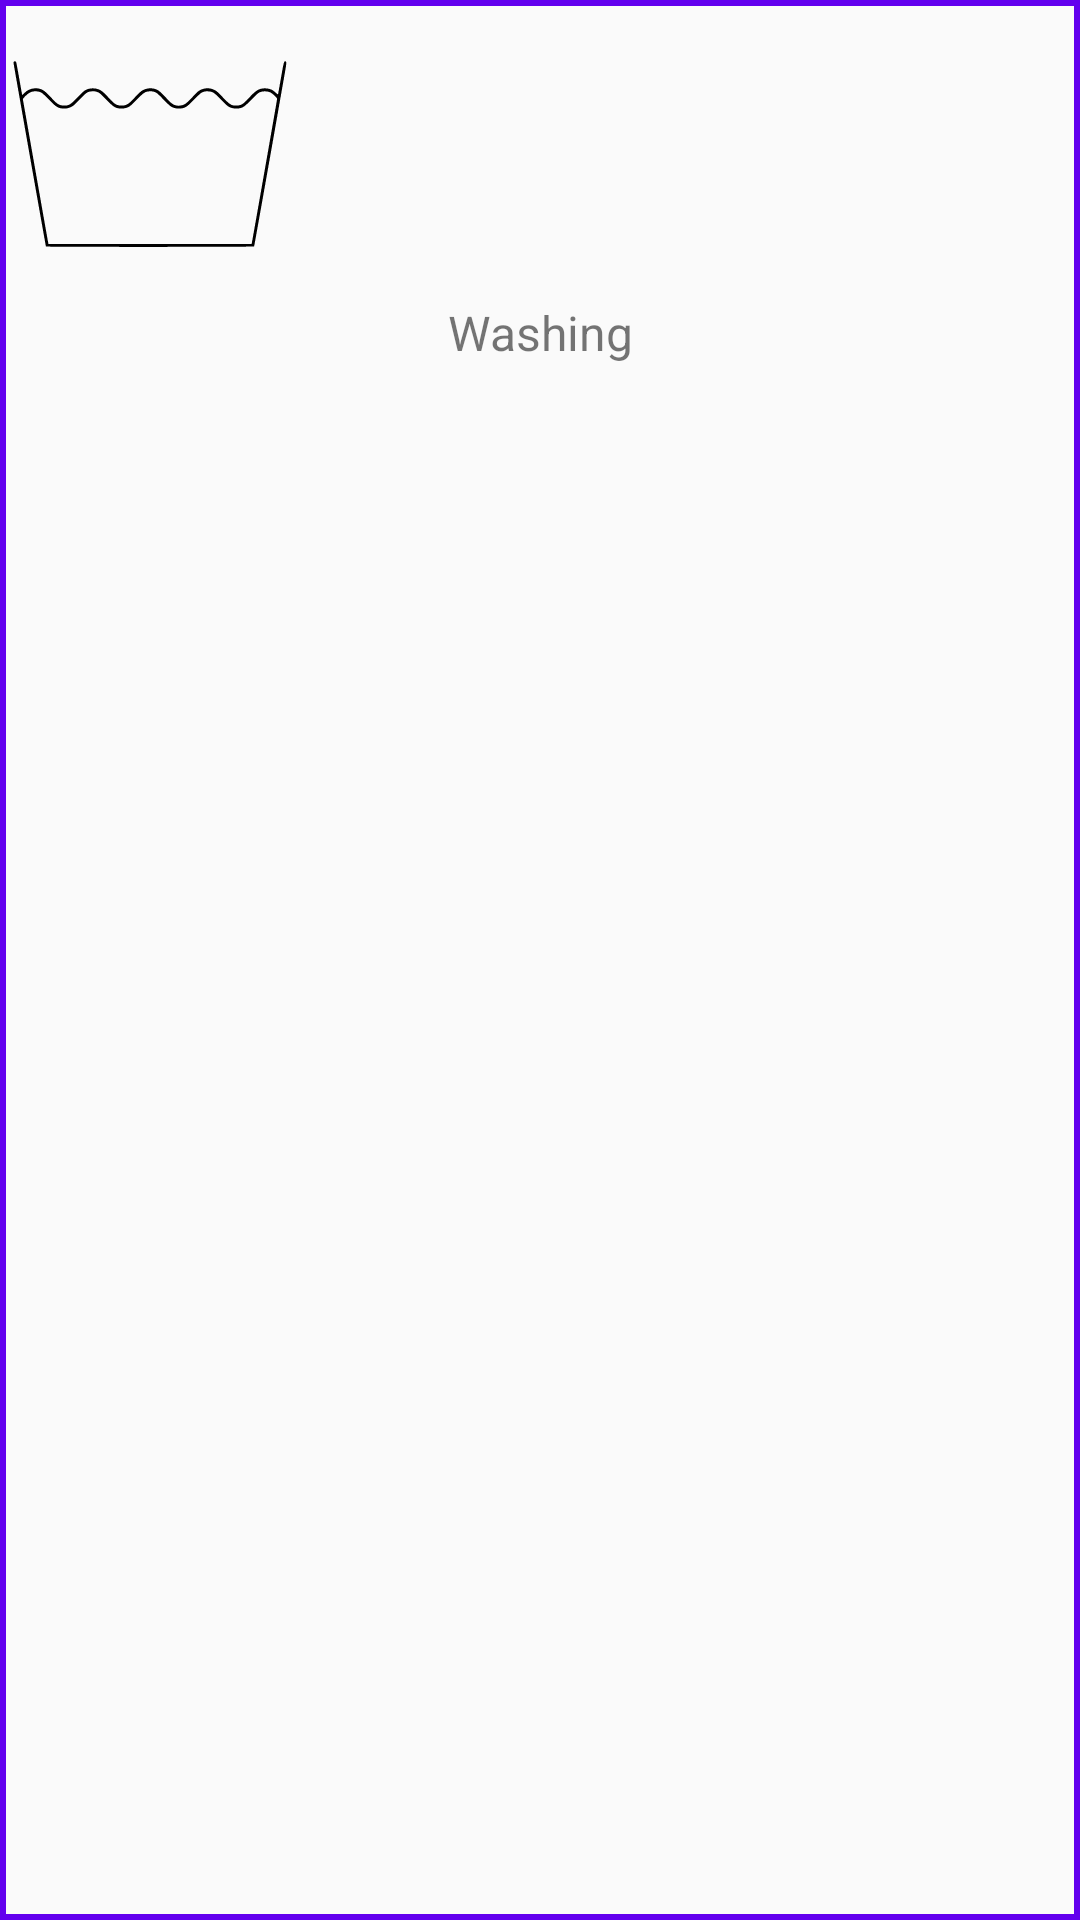

Screen size 1080px x 1920px. Icon name, then its center in pixels as point (x, y):
washable: point (150, 150)
